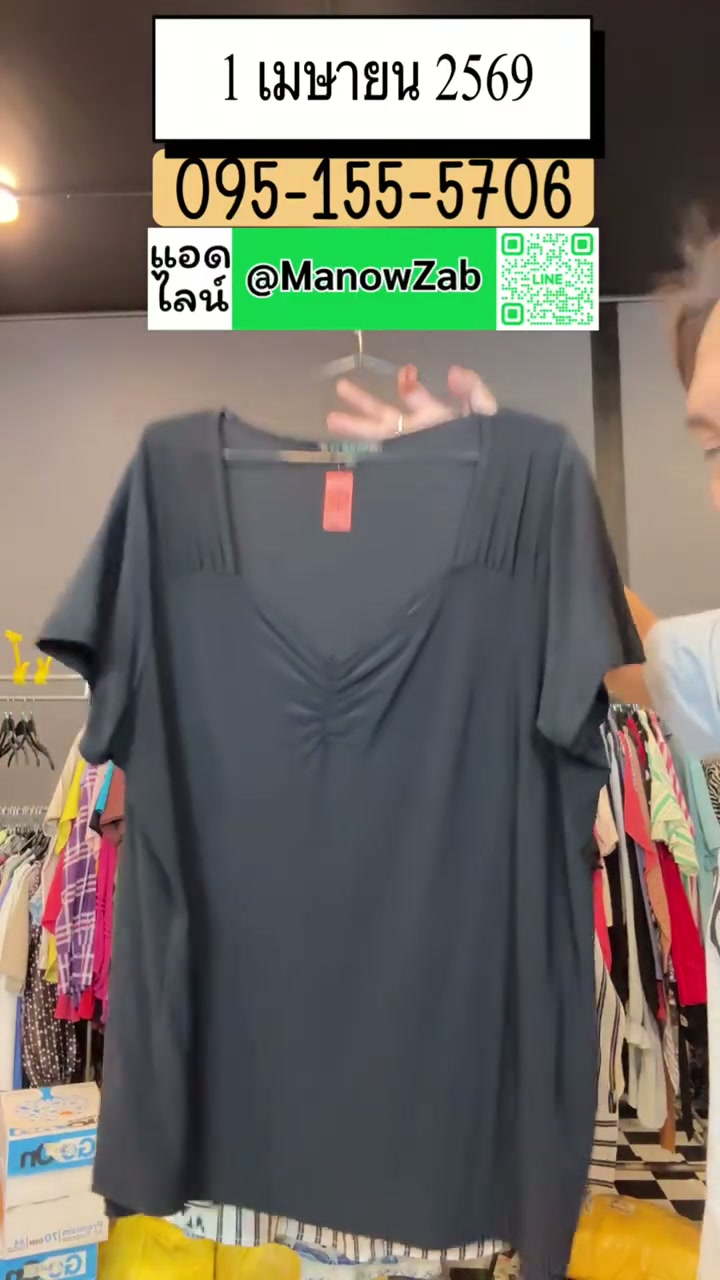display_shirt: (38, 411, 639, 1279)
